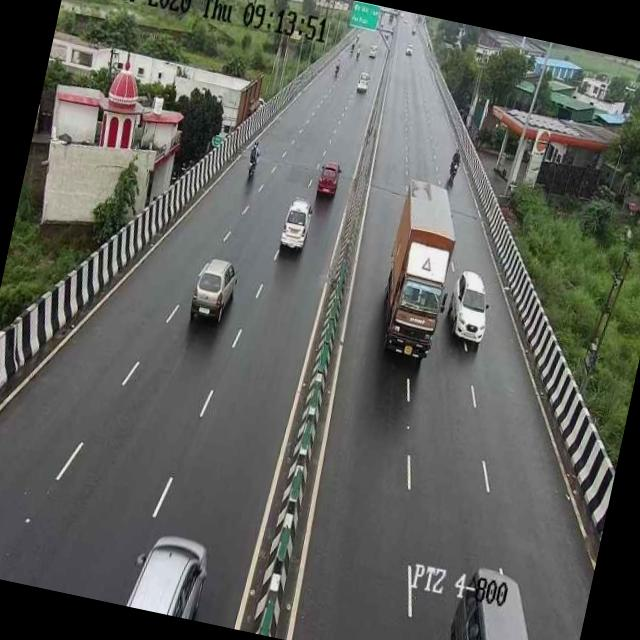car: (180, 247, 243, 338), (443, 265, 497, 350), (274, 192, 316, 262), (310, 154, 347, 203)
